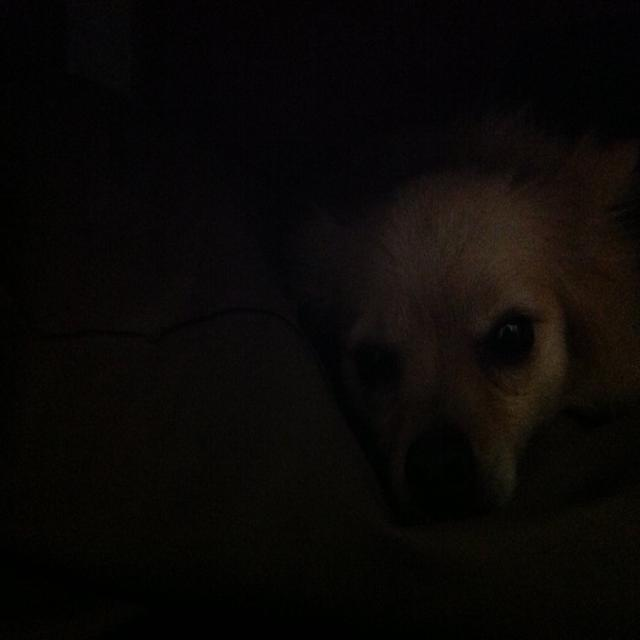Dog: (249, 103, 640, 640)
